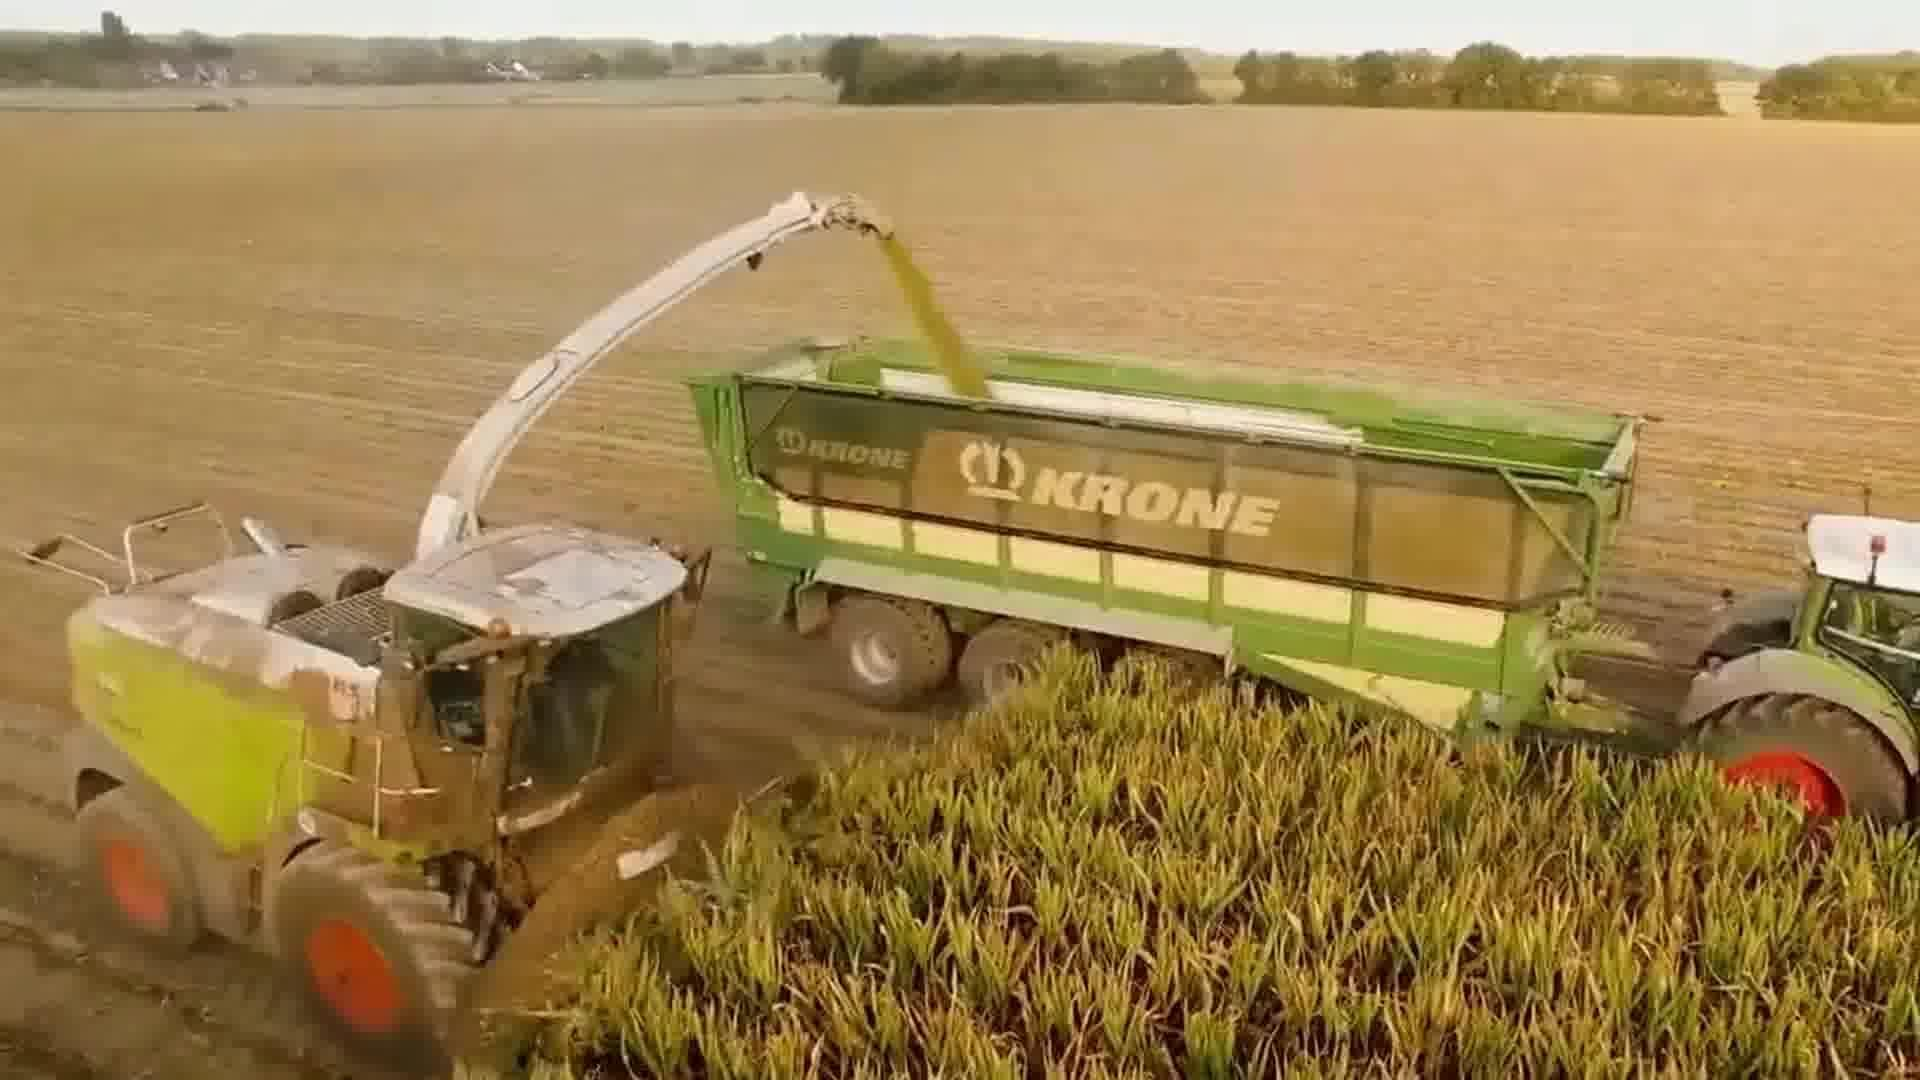combine harvester: (12, 186, 902, 1076)
tractor: (1660, 480, 1920, 857)
trailer: (675, 319, 1660, 778)
